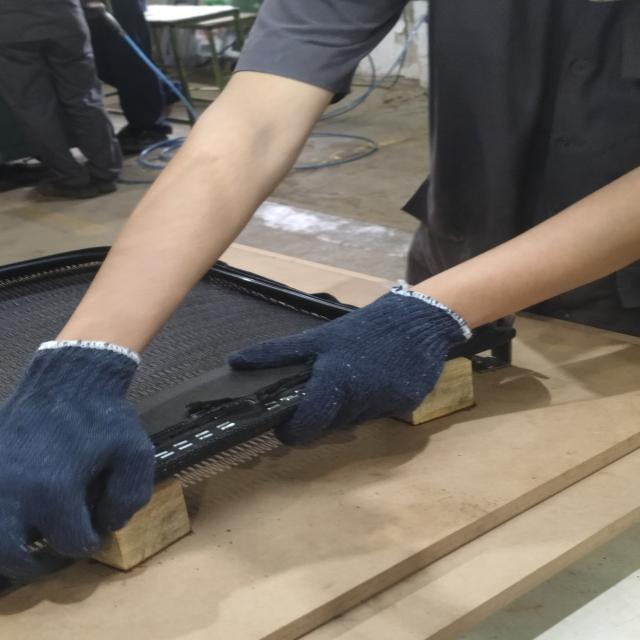Gloves-Detection: (229, 288, 472, 448), (7, 340, 158, 579)
